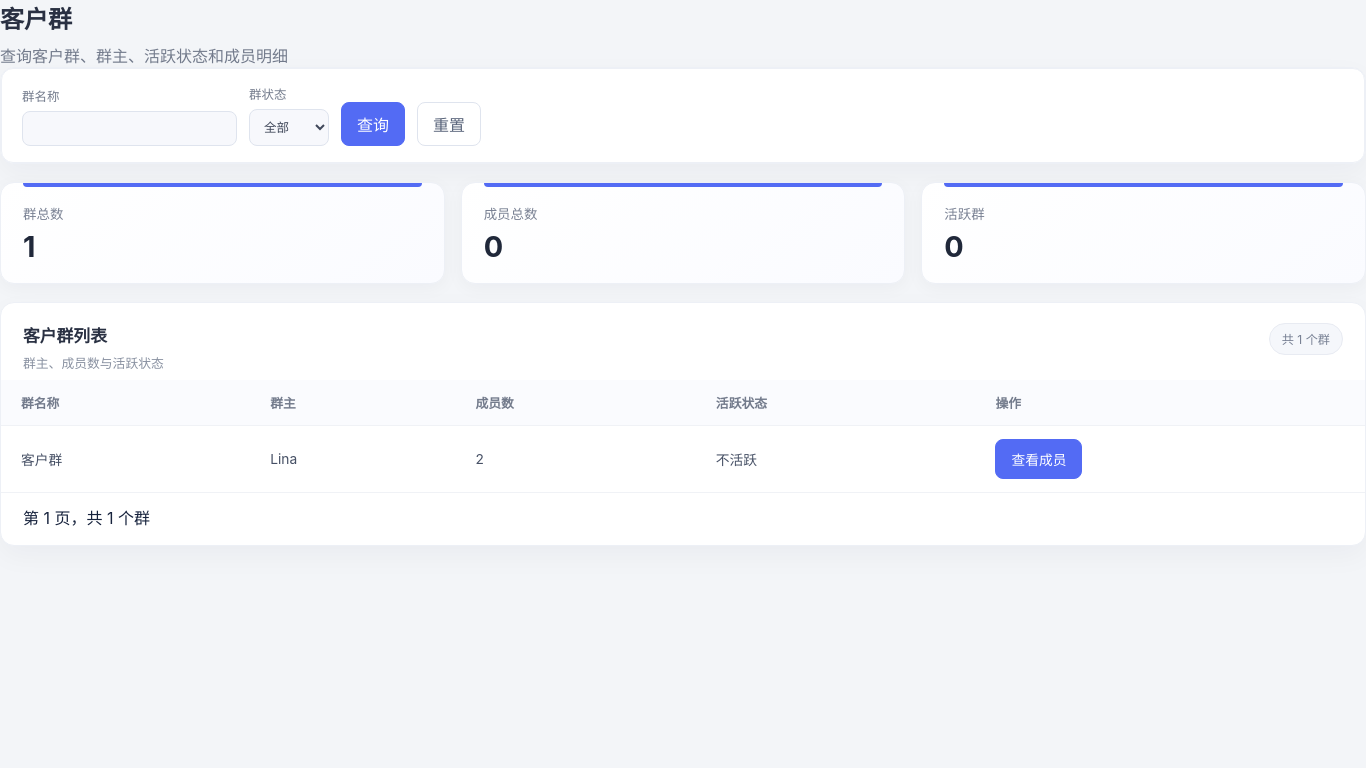
Test: loads groups and retrieves members for selected group
Click the button with aria-label "查看 客户群": (1039, 459) [996,439,1082,479]
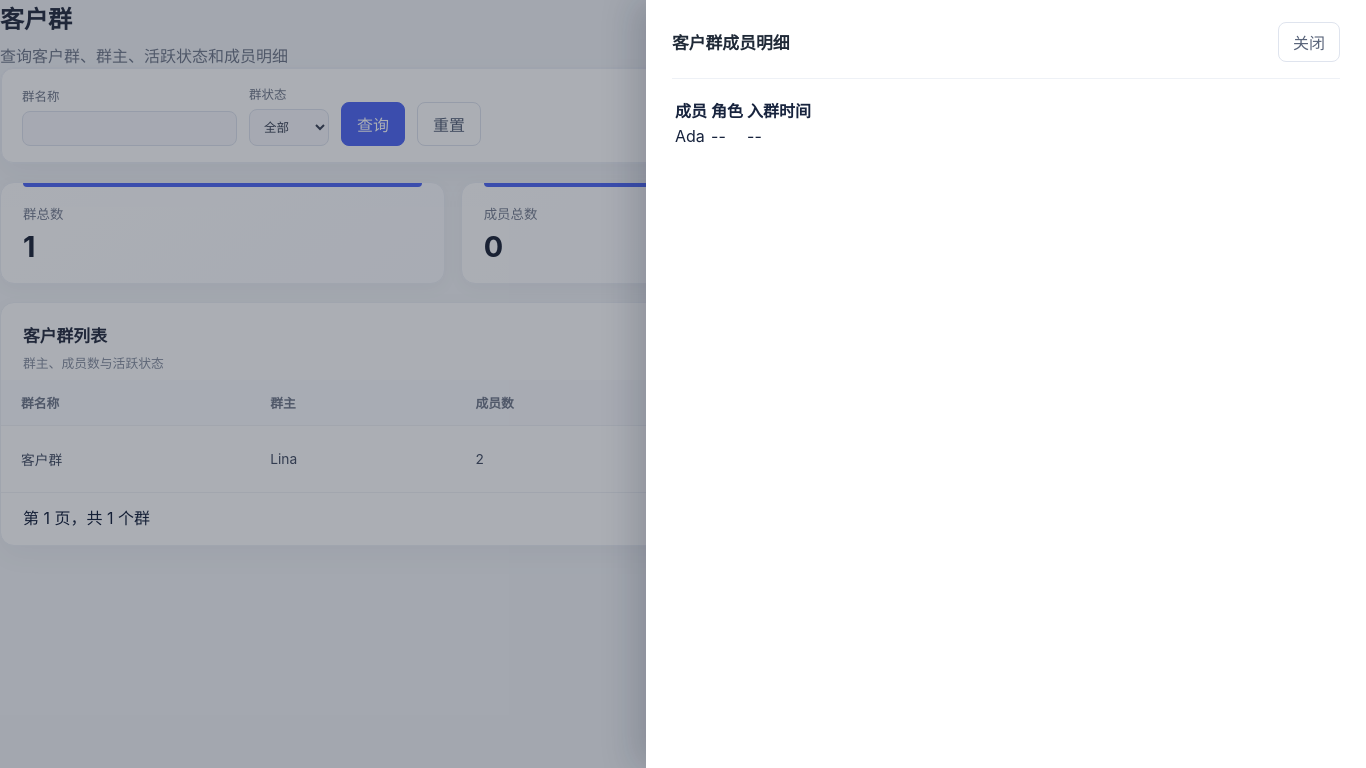
Result: the text "Ada" is shown at [674,125,708,147]
